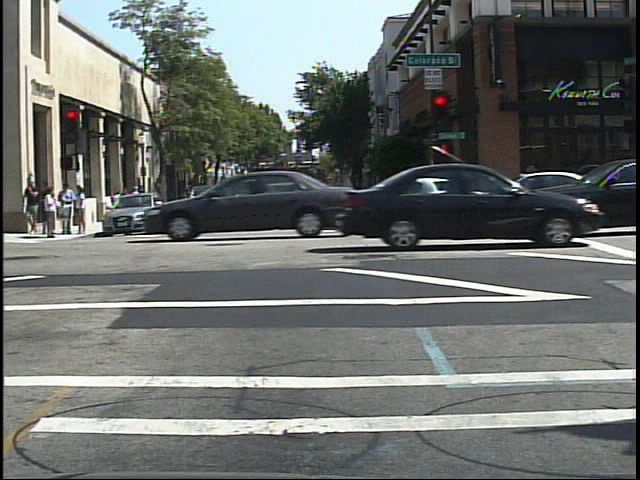person: (126, 181, 144, 219), (137, 181, 153, 220)
